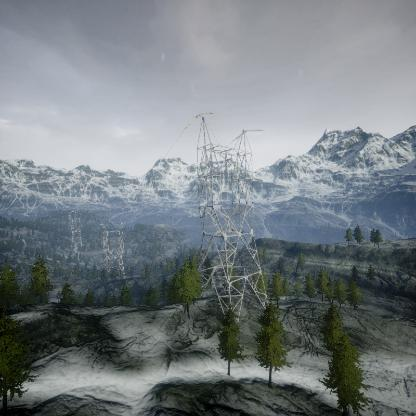tower: (192, 107, 270, 330), (98, 222, 127, 282)
